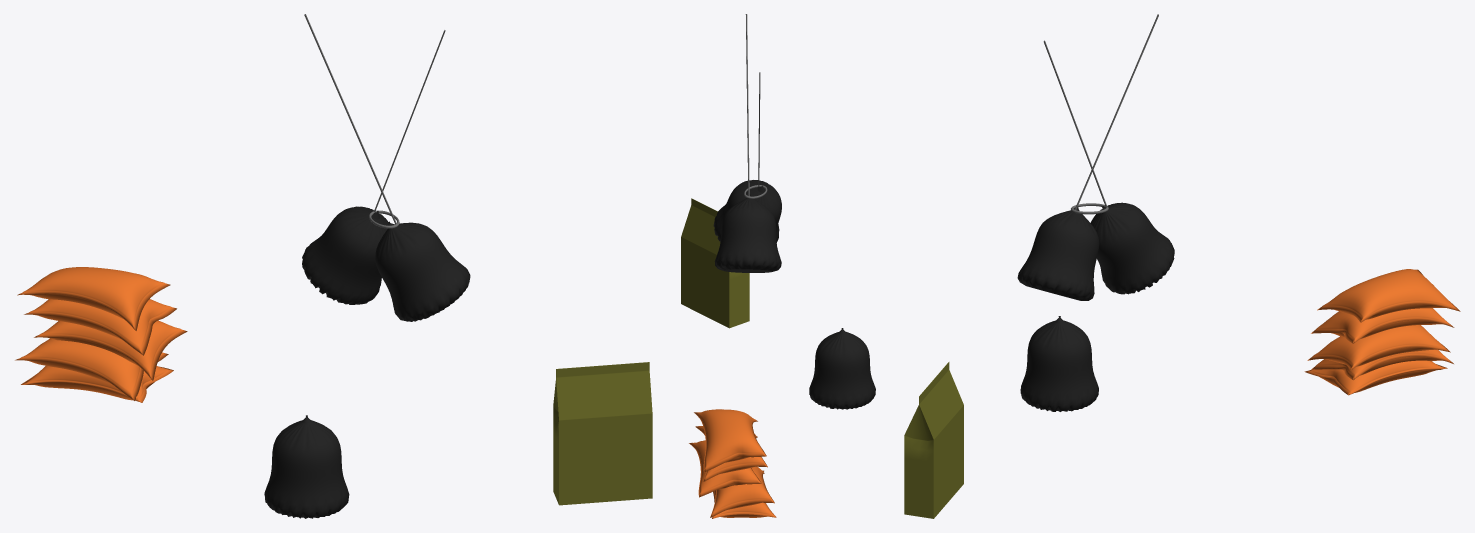
The model's file is Sacos.fbx.
The picture shows the model from 3 angles, left to right: view 1: azimuth 30°, elevation 25°; view 2: azimuth 150°, elevation 25°; view 3: azimuth 270°, elevation 25°; orthographic projection. The views are drawn at different scales.
Visible parts, largest first — view 1: Box014, Cylinder007, Cylinder002, Box008, Box005, Box007, Box006, Box012; view 2: Cylinder007, Box014, Cylinder002, Box008, Box005, Box006, Box007, Box012; view 3: Cylinder007, Box014, Cylinder002, Box008, Box006, Box007, Box012, Box005.
Boxes of the visible parts, bbox=[...] form: Box014: bbox=[553, 362, 652, 505]; Cylinder007: bbox=[302, 14, 470, 321]; Cylinder002: bbox=[264, 415, 349, 518]; Box008: bbox=[17, 267, 170, 330]; Box005: bbox=[15, 338, 168, 400]; Box007: bbox=[24, 299, 176, 355]; Box006: bbox=[34, 320, 187, 380]; Box012: bbox=[21, 366, 173, 402]; Cylinder007: bbox=[713, 14, 781, 272]; Box014: bbox=[681, 198, 749, 328]; Cylinder002: bbox=[809, 328, 875, 409]; Box008: bbox=[694, 409, 766, 472]; Box005: bbox=[710, 466, 774, 517]; Box006: bbox=[689, 440, 761, 497]; Box007: bbox=[695, 426, 767, 481]; Box012: bbox=[712, 470, 776, 518]; Cylinder007: bbox=[1017, 14, 1174, 300]; Box014: bbox=[904, 362, 963, 518]; Cylinder002: bbox=[1020, 316, 1098, 411]; Box008: bbox=[1317, 269, 1460, 322]; Box006: bbox=[1307, 325, 1450, 369]; Box007: bbox=[1311, 308, 1454, 343]; Box012: bbox=[1304, 360, 1447, 395]; Box005: bbox=[1311, 349, 1453, 380].
Bounding box in the file's own units: 57.36 × 65.56 × 79.26.
